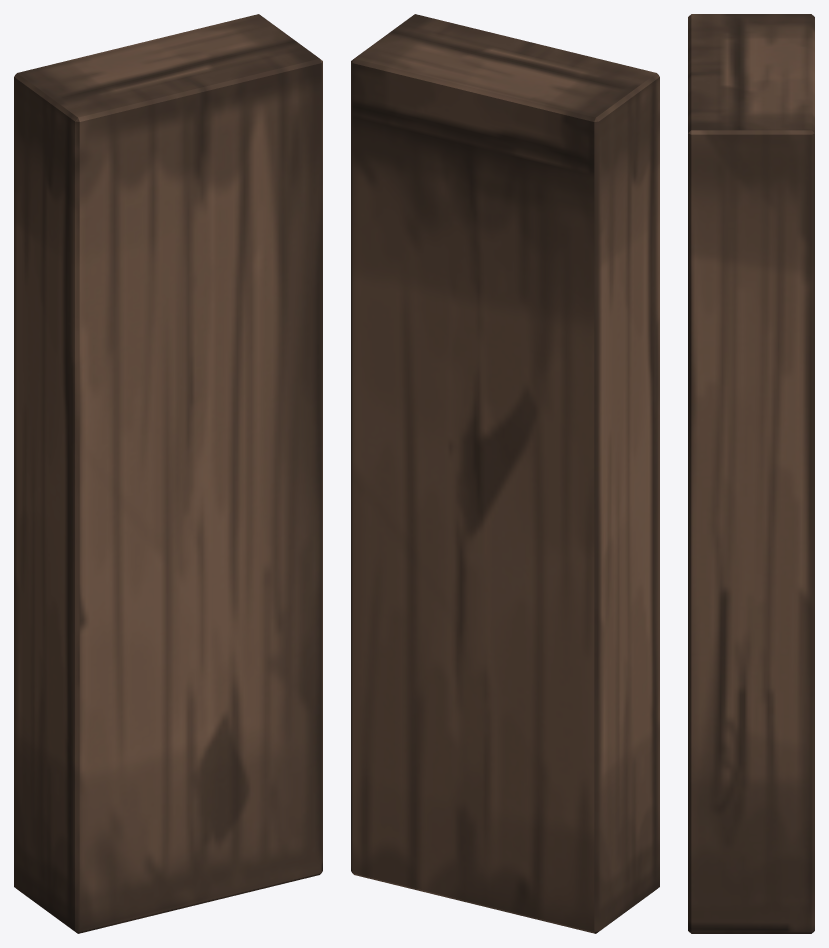
The model's file is Stele_Wood_Low.FBX.
The picture shows the model from 3 angles, left to right: view 1: azimuth 30°, elevation 25°; view 2: azimuth 150°, elevation 25°; view 3: azimuth 270°, elevation 25°; orthographic projection.
Parts seen in each view (by area): view 1: Stele_Wood_Low; view 2: Stele_Wood_Low; view 3: Stele_Wood_Low.
Part boxes in pixels (x1,y1,x2,y2): Stele_Wood_Low: (14,14,322,933); Stele_Wood_Low: (351,14,659,933); Stele_Wood_Low: (688,14,814,933).
Bounding box in the file's own units: 30 × 94.39 × 13.51.
